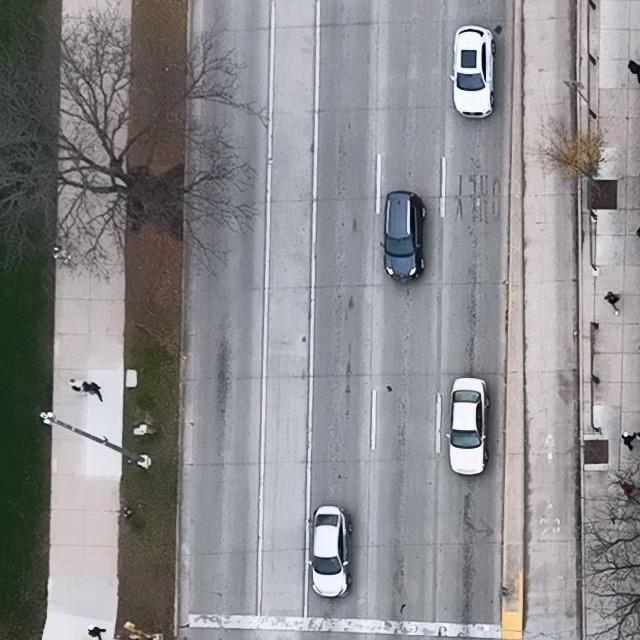car: (449, 26, 496, 120), (445, 378, 490, 476), (307, 505, 353, 598), (380, 190, 426, 281)
